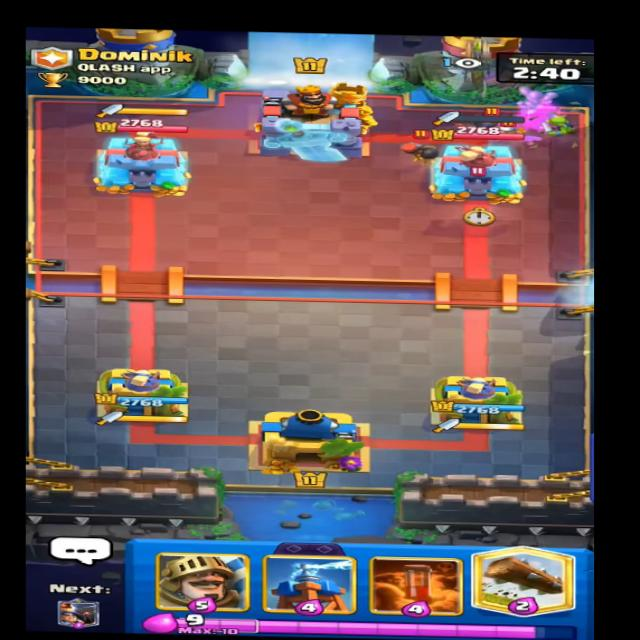Bomber: (390, 126, 442, 168)
Skeleton: (492, 118, 524, 140)
